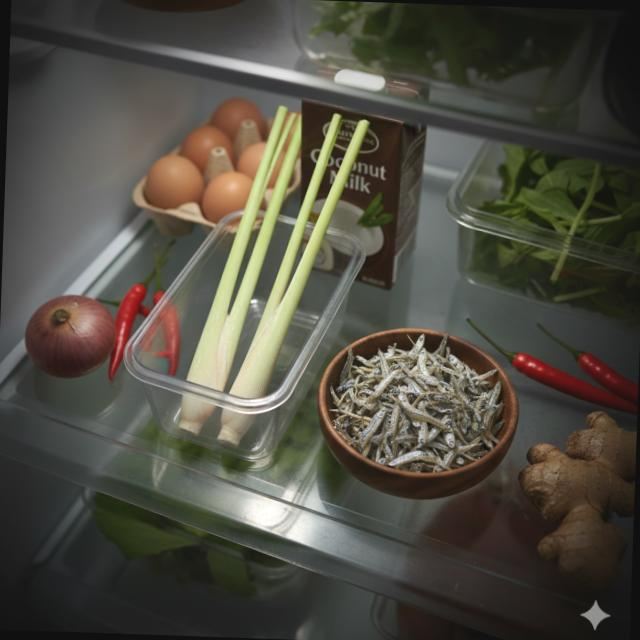anchovies: (328, 328, 505, 476)
chili: (462, 315, 640, 414), (107, 236, 184, 384)
egg: (131, 94, 302, 243)
ginger: (514, 406, 636, 580)
leafy_greens: (465, 142, 640, 317)
lemongrass: (176, 100, 370, 452)
onion: (23, 293, 118, 381)
